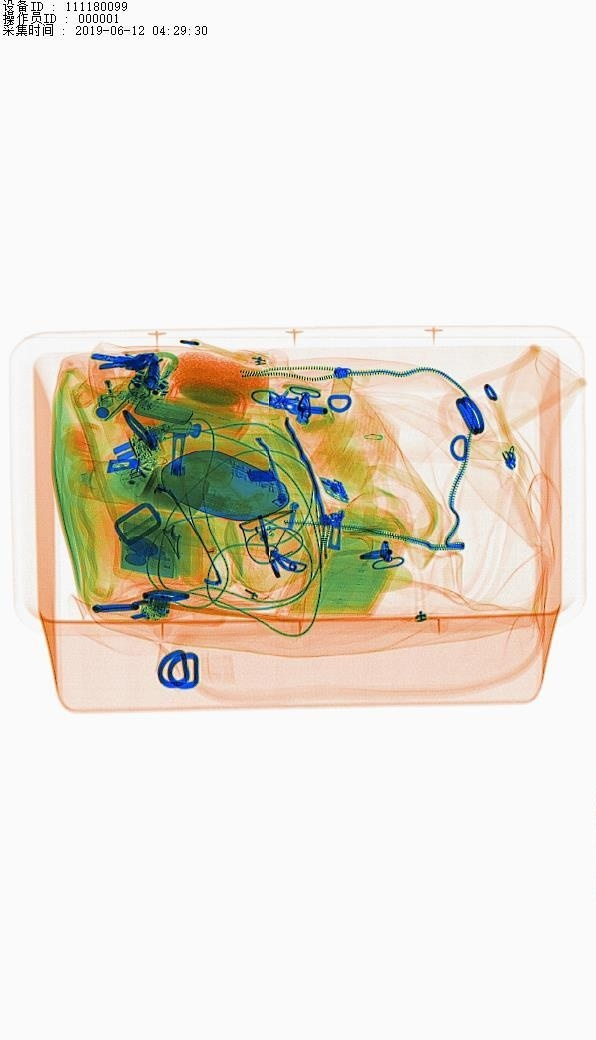NonmetallicFire: (72, 340, 122, 433)
